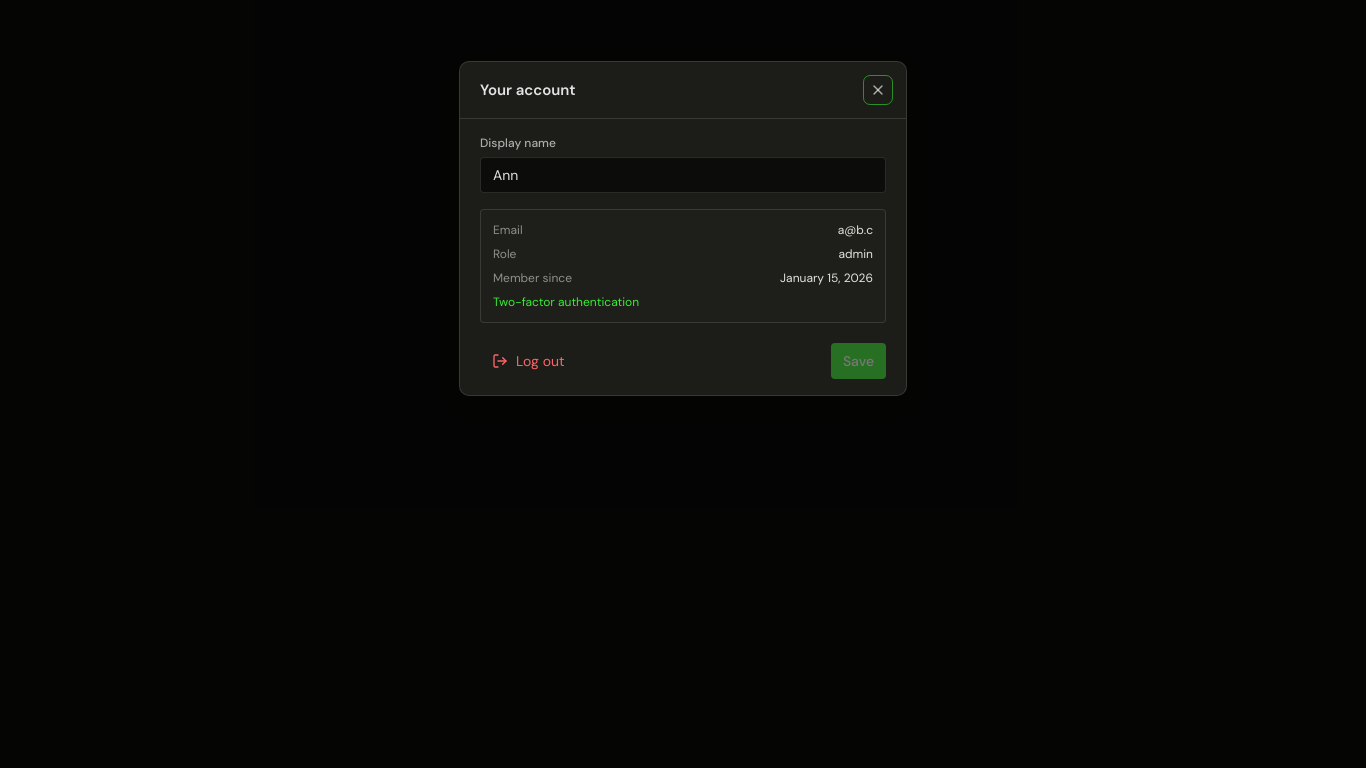
Test: ProfileDialog › keeps Save off until the name changes
Check: the button "Save" is disabled, box [831, 343, 886, 379]
Type "a" into the field with placeholder "Your name".
click(683, 175); type("a")  # box [480, 157, 886, 193]
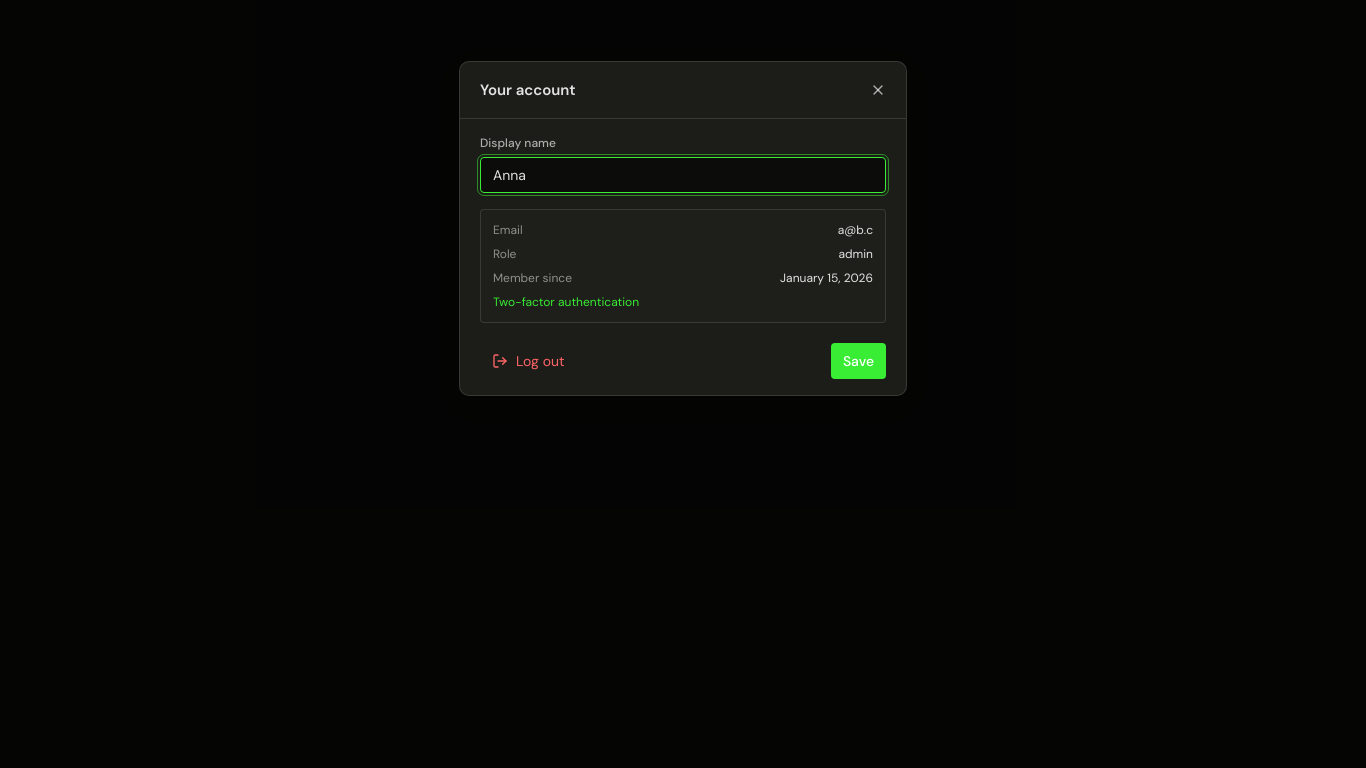
Check: the button "Save" is enabled, box [831, 343, 886, 379]
